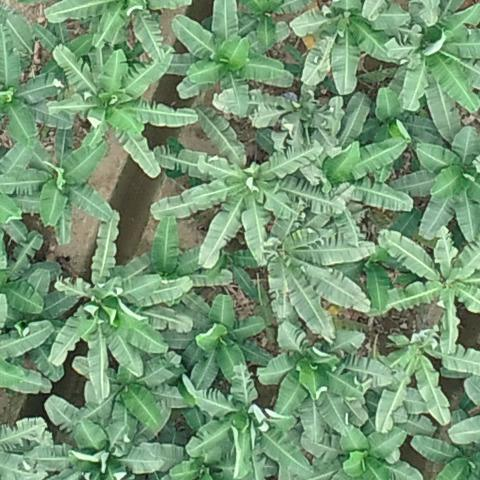Banana-plant: (153, 108, 322, 264), (59, 209, 190, 396), (48, 41, 198, 177), (304, 93, 410, 241), (257, 319, 391, 431), (156, 0, 293, 108), (270, 209, 375, 348), (188, 365, 311, 480), (25, 393, 185, 480), (377, 227, 480, 352), (289, 0, 409, 96), (163, 290, 272, 390), (24, 123, 111, 243), (390, 127, 480, 241), (391, 0, 480, 110), (44, 0, 193, 59), (0, 19, 63, 146), (376, 333, 453, 433), (300, 425, 421, 480), (362, 88, 445, 163), (407, 409, 480, 480), (0, 229, 45, 328), (243, 0, 311, 47), (35, 19, 93, 73)
